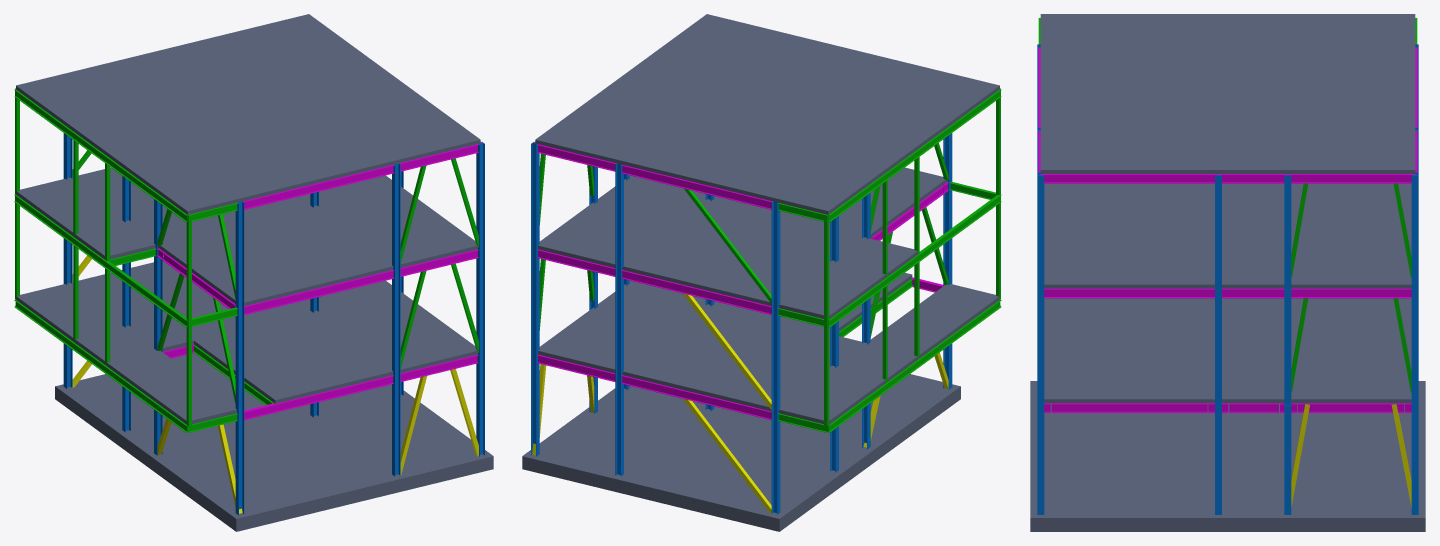
3 renders of one model, left to right at view 1: azimuth 30°, elevation 25°; view 2: azimuth 150°, elevation 25°; view 3: azimuth 270°, elevation 25°, orthographic. The views are drawn at different scales.
Parts seen in each view (by area): view 1: Layers; view 2: Layers; view 3: Layers.
Part boxes in pixels (x1,y1,x2,y2): Layers: (14,14,493,531); Layers: (522,14,1001,531); Layers: (1030,14,1425,531).
Bounding box in the file's own units: 11.01 × 11.38 × 11.4.
